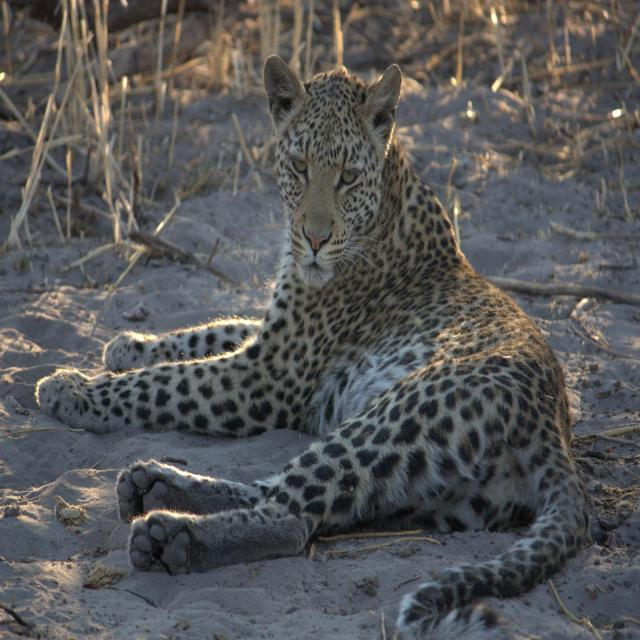Leopard: (38, 50, 568, 640)
